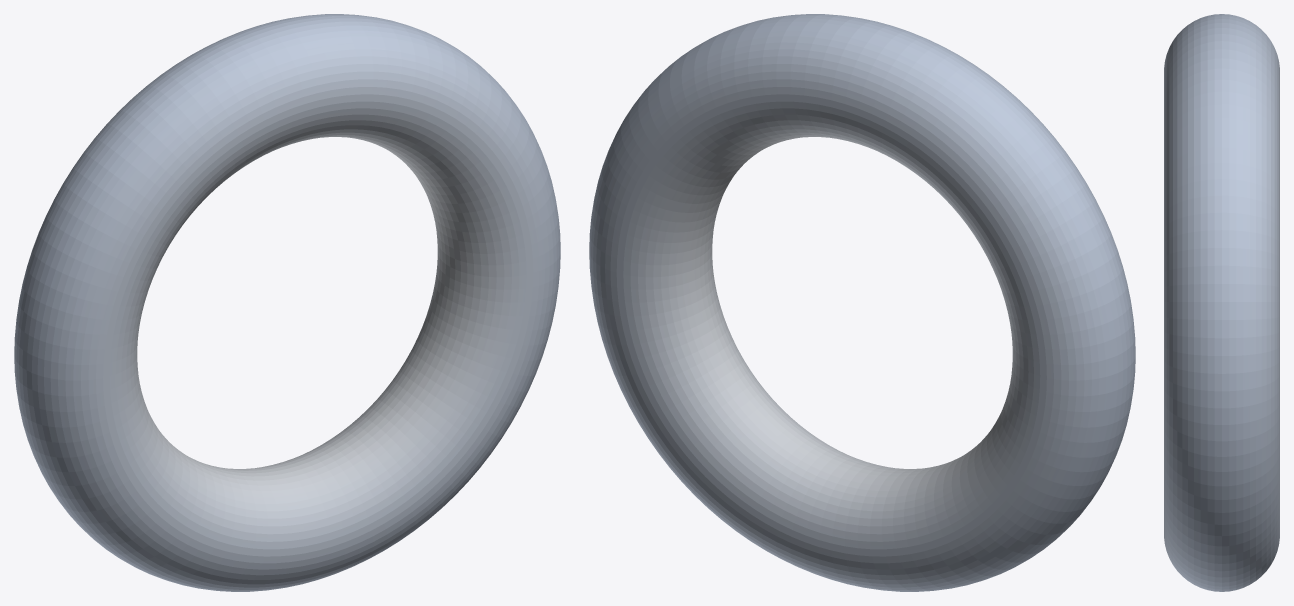
3 views of the same model, side by side, from view 1: azimuth 30°, elevation 25°; view 2: azimuth 150°, elevation 25°; view 3: azimuth 270°, elevation 25° (orthographic). The views are drawn at different scales.
Parts seen in each view (by area): view 1: world; view 2: world; view 3: world.
Part boxes in pixels (x1=…): world: x1=14, y1=14, x2=560, y2=591; world: x1=589, y1=14, x2=1135, y2=591; world: x1=1164, y1=14, x2=1279, y2=591.
Size of the model in its own units: 25.87 by 25.87 by 5.19.
